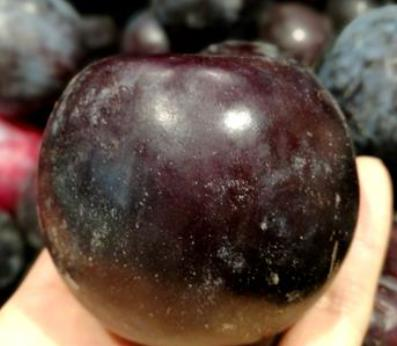plum_A: (35, 40, 360, 346)
